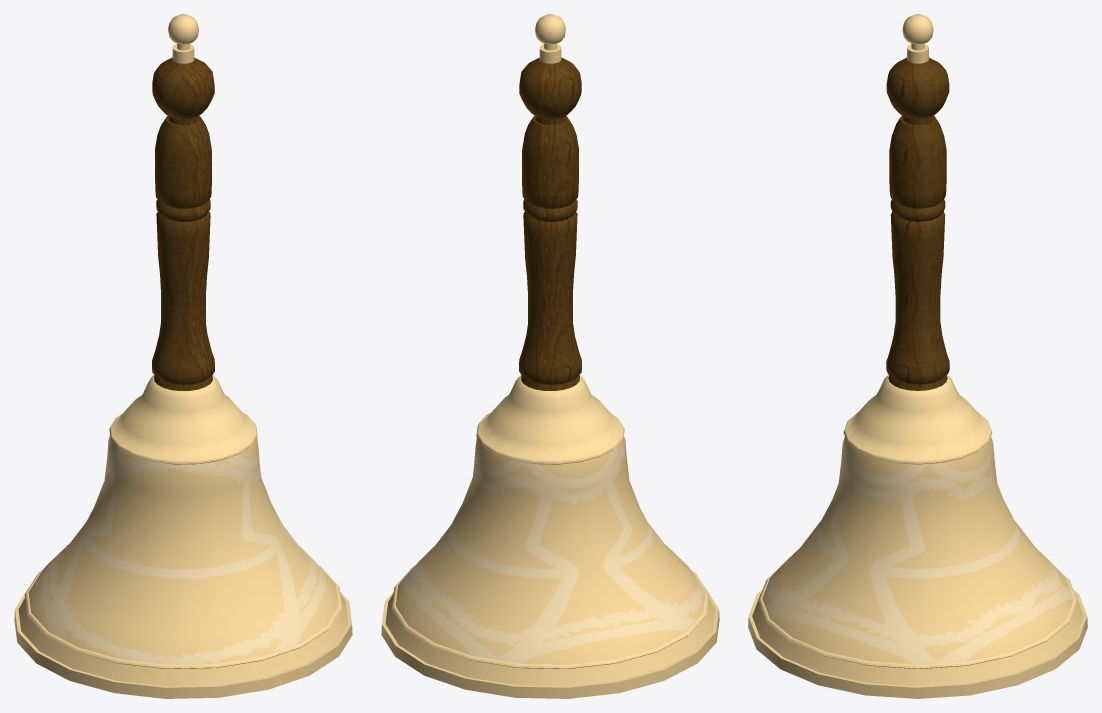
The model's file is GenericProp-HandBell.fbx.
3 views of the same model, side by side, from view 1: azimuth 30°, elevation 25°; view 2: azimuth 150°, elevation 25°; view 3: azimuth 270°, elevation 25° (orthographic).
Visible parts, largest first — view 1: Handbell; view 2: Handbell; view 3: Handbell.
Part boxes in pixels (bbox=[...]): Handbell: bbox=[14, 14, 352, 698]; Handbell: bbox=[381, 14, 719, 698]; Handbell: bbox=[748, 14, 1087, 698].
Size of the model in its own units: 7.44 by 15.05 by 7.44.
